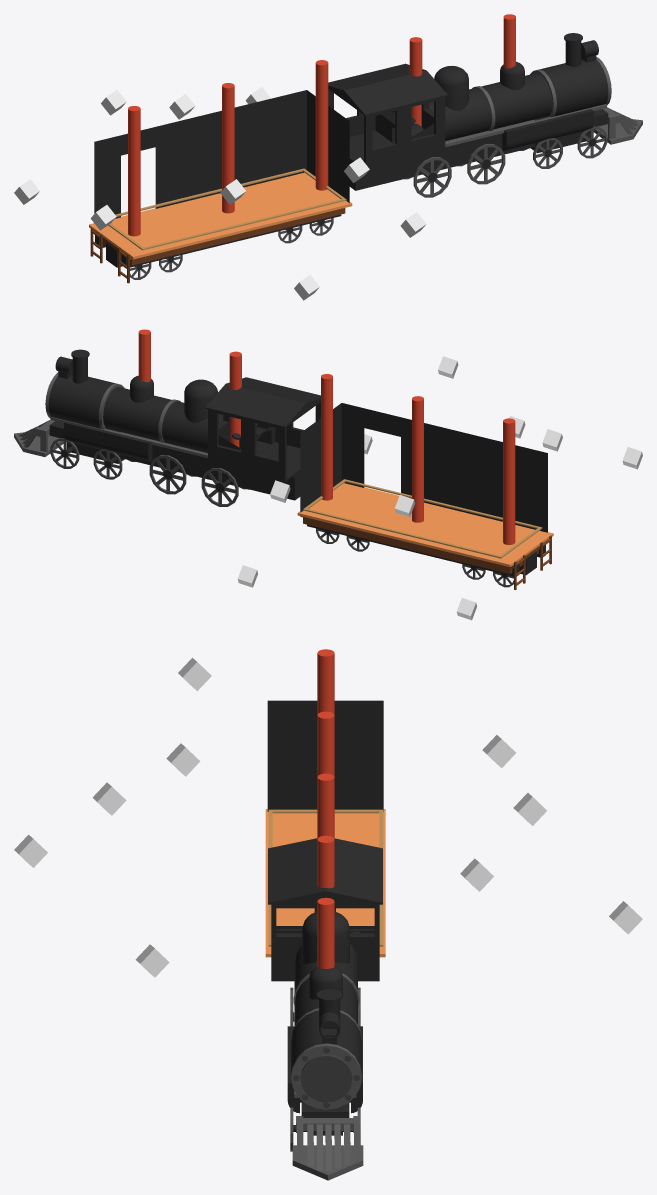
Rendered from PL_LBVR_SC03_v01.fbx.
3 renders of one model, top to bottom at view 1: azimuth 30°, elevation 25°; view 2: azimuth 150°, elevation 25°; view 3: azimuth 270°, elevation 25°, orthographic. The views are drawn at different scales.
Visible parts, largest first — view 1: TRAIN, DEIXAR EM TODOS OS LEVELS P/ REF, Cube.081; view 2: TRAIN, DEIXAR EM TODOS OS LEVELS P/ REF, Cube.081; view 3: TRAIN, DEIXAR EM TODOS OS LEVELS P/ REF, Cube.081.
Boxes of the visible parts, <box> form: TRAIN: <box>89,33,642,283</box>; DEIXAR EM TODOS OS LEVELS P/ REF: <box>128,14,515,236</box>; Cube.081: <box>108,168,346,250</box>; TRAIN: <box>14,349,553,589</box>; DEIXAR EM TODOS OS LEVELS P/ REF: <box>138,329,515,544</box>; Cube.081: <box>303,479,542,558</box>; TRAIN: <box>265,700,385,1180</box>; DEIXAR EM TODOS OS LEVELS P/ REF: <box>317,649,334,968</box>; Cube.081: <box>268,809,383,946</box>.
Size of the model in its own units: 2228 by 580 by 1499.
